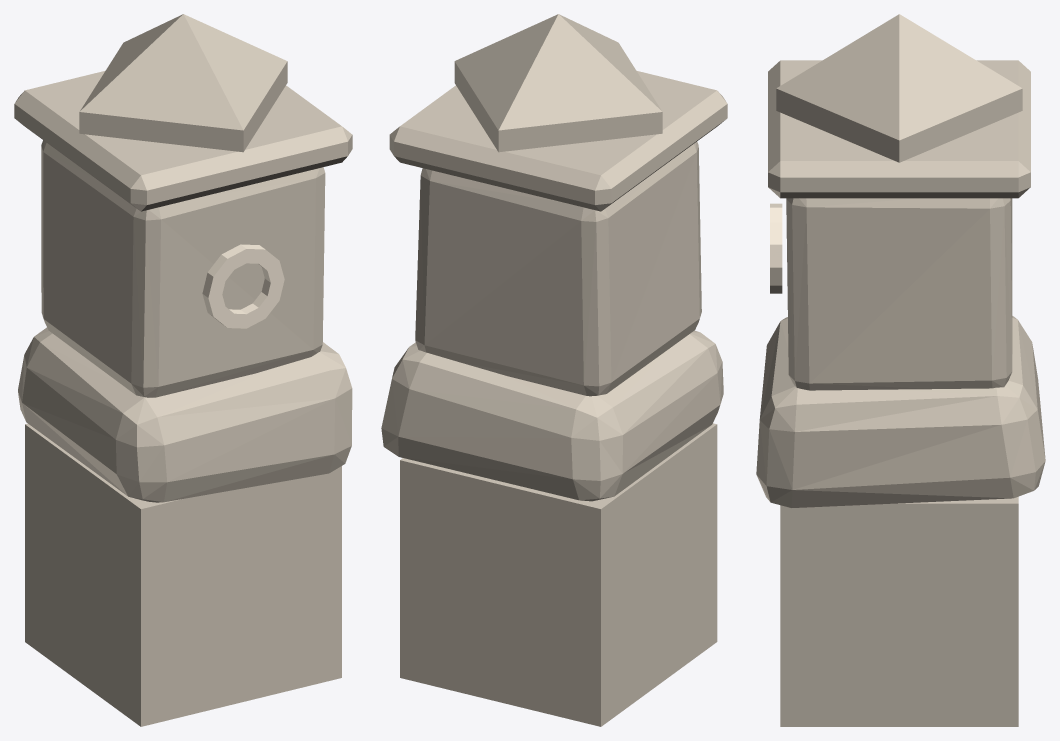
File: SM_VK_Quay_Post.fbx
3 renders of one model, left to right at view 1: azimuth 30°, elevation 25°; view 2: azimuth 150°, elevation 25°; view 3: azimuth 270°, elevation 25°, orthographic. The views are drawn at different scales.
Parts seen in each view (by area): view 1: SM_VK_Quay_Post.001; view 2: SM_VK_Quay_Post.001; view 3: SM_VK_Quay_Post.001.
Boxes of the visible parts, <box> form: SM_VK_Quay_Post.001: <box>14,14,352,726</box>; SM_VK_Quay_Post.001: <box>381,14,727,726</box>; SM_VK_Quay_Post.001: <box>756,14,1045,726</box>.
Size of the model in its own units: 0.672 by 1.78 by 0.7044.
